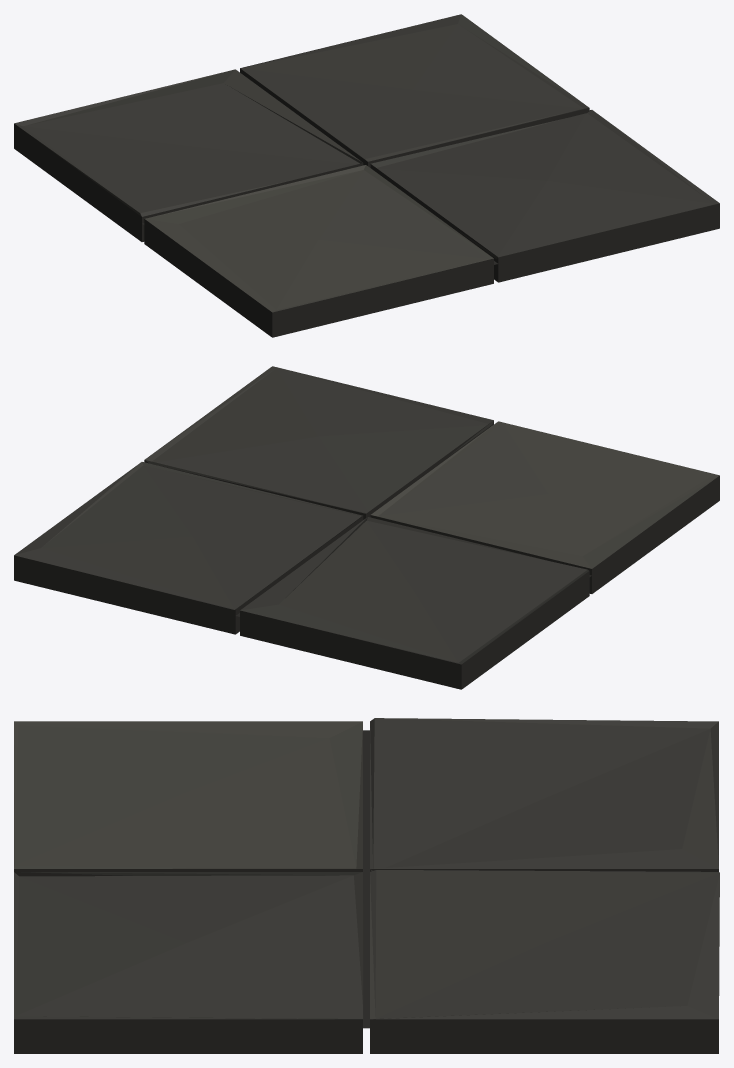
The model's file is SM_Ground_Road_01.fbx.
3 renders of one model, top to bottom at view 1: azimuth 30°, elevation 25°; view 2: azimuth 150°, elevation 25°; view 3: azimuth 270°, elevation 25°, orthographic. The views are drawn at different scales.
Visible parts, largest first — view 1: SM_Ground_Road_01; view 2: SM_Ground_Road_01; view 3: SM_Ground_Road_01.
Part boxes in pixels (left/top/right/bottom): SM_Ground_Road_01: left=14, top=14, right=719, bottom=337; SM_Ground_Road_01: left=14, top=366, right=719, bottom=689; SM_Ground_Road_01: left=14, top=718, right=719, bottom=1053.
Bounding box in the file's own units: 1 × 0.0596 × 1.
Materials: 1 (1 with a texture image).
